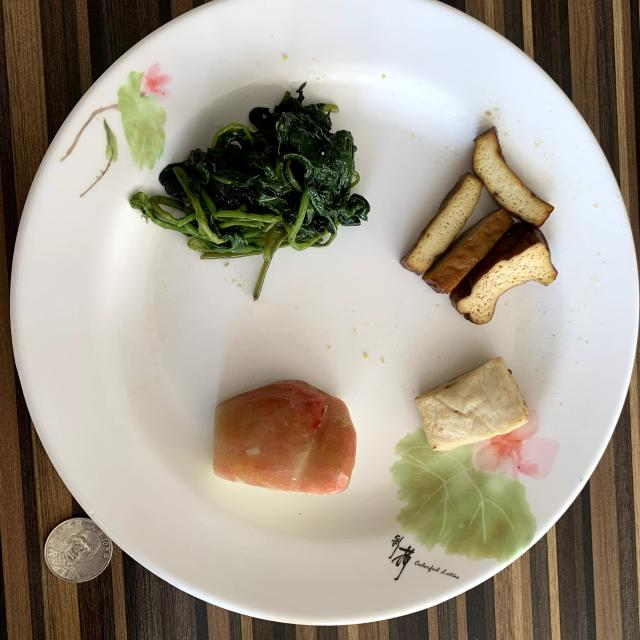coin: (44, 518, 112, 582)
creamy tofu -without sauce-: (415, 358, 529, 451)
firm tofu: (401, 129, 558, 324)
sweet potato leaves: (130, 84, 370, 300)
